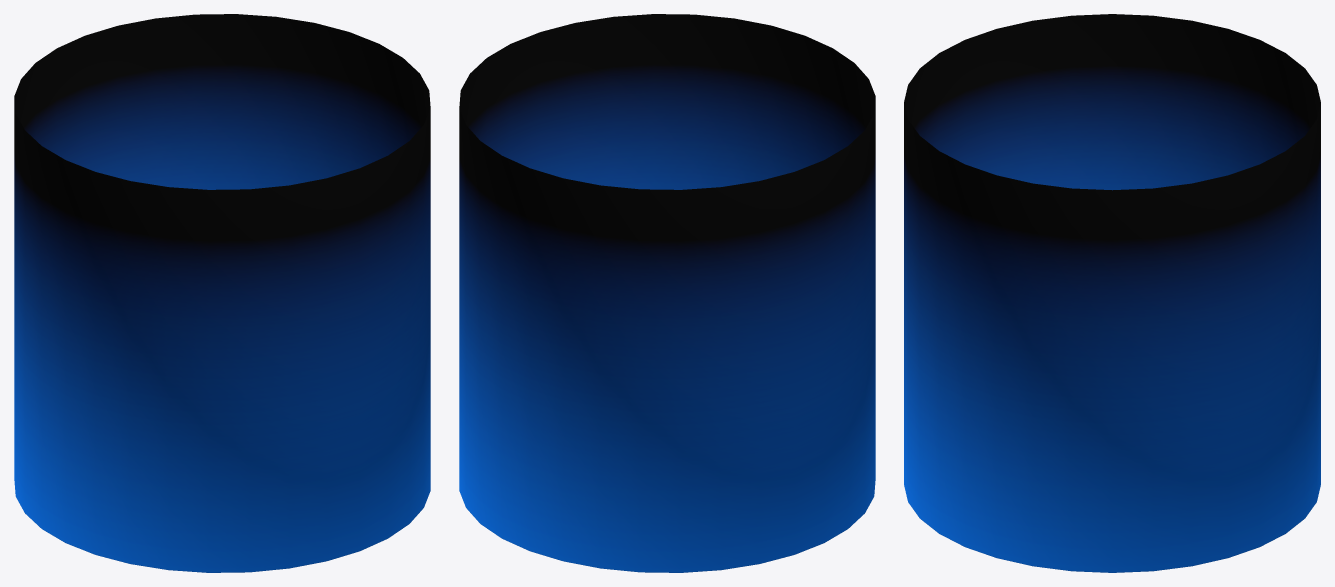
Rendered from eventEnter.fbx.
3 views of the same model, side by side, from view 1: azimuth 30°, elevation 25°; view 2: azimuth 150°, elevation 25°; view 3: azimuth 270°, elevation 25° (orthographic).
Parts seen in each view (by area): view 1: EventEnter; view 2: EventEnter; view 3: EventEnter.
Boxes of the visible parts, x1,y1,x2,y2 form: EventEnter: (14,14,430,572); EventEnter: (459,14,875,572); EventEnter: (904,14,1320,572).
Size of the model in its own units: 3.8 by 3.85 by 3.8.
1 material, 1 textured.
